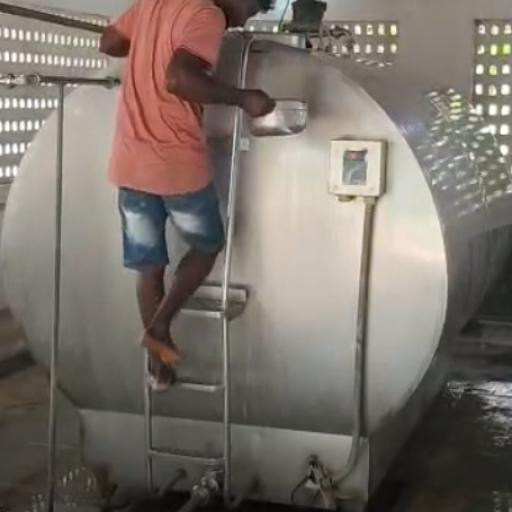silo: (0, 30, 511, 511)
vessel: (249, 97, 308, 137)
